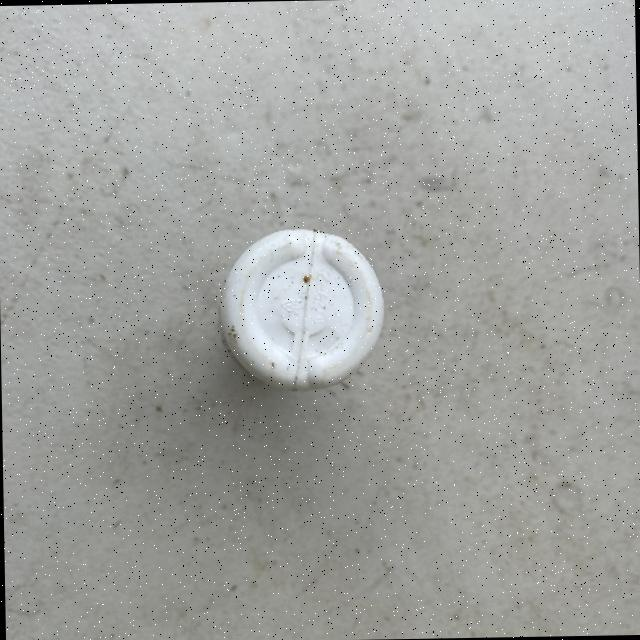styrofoam: (216, 224, 385, 393)
